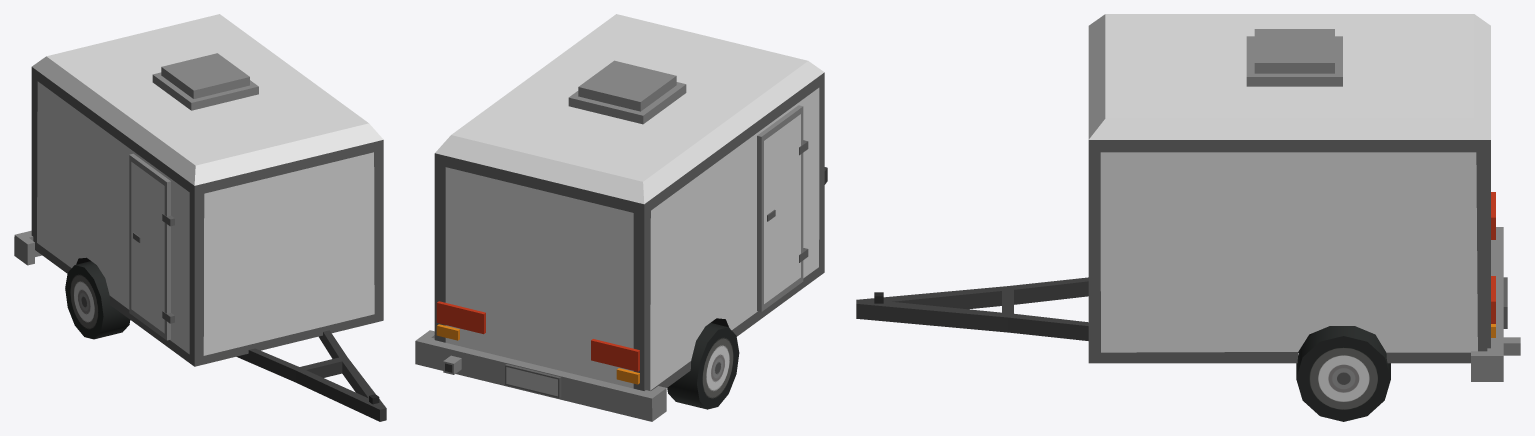
Rendered from CarTrailerB.fbx.
3 views of the same model, side by side, from view 1: azimuth 30°, elevation 25°; view 2: azimuth 150°, elevation 25°; view 3: azimuth 270°, elevation 25° (orthographic). The views are drawn at different scales.
Parts seen in each view (by area): view 1: CarTrailerB, TireR; view 2: CarTrailerB, TireR; view 3: CarTrailerB, TireL.
Part boxes in pixels (x1,y1,x2,y2): CarTrailerB: (14, 14, 386, 421); TireR: (65, 261, 130, 339); CarTrailerB: (415, 14, 827, 421); TireR: (667, 323, 739, 409); CarTrailerB: (856, 14, 1520, 381); TireL: (1296, 326, 1390, 421).
Size of the model in its own units: 209 by 238 by 455.
